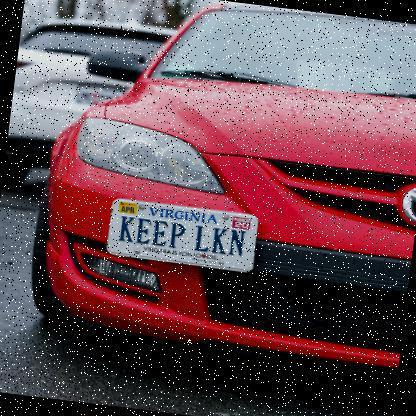License-Plate: (92, 188, 280, 285)
